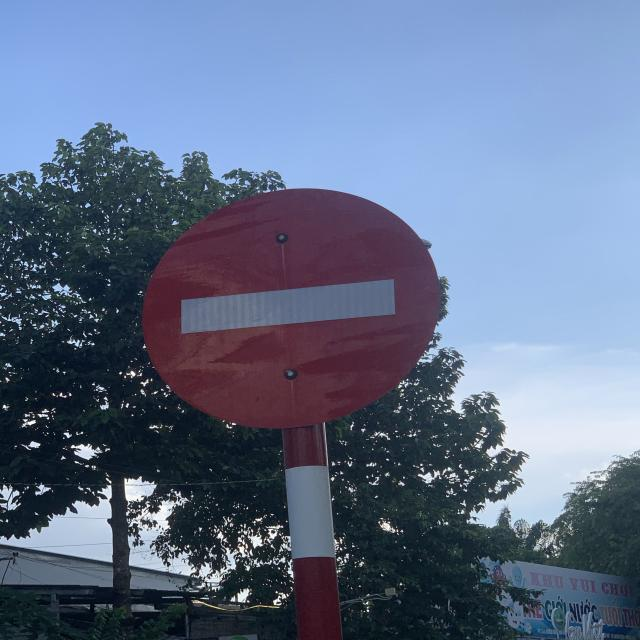Cam_Di_Nguoc_Chieu: (138, 189, 448, 429)
